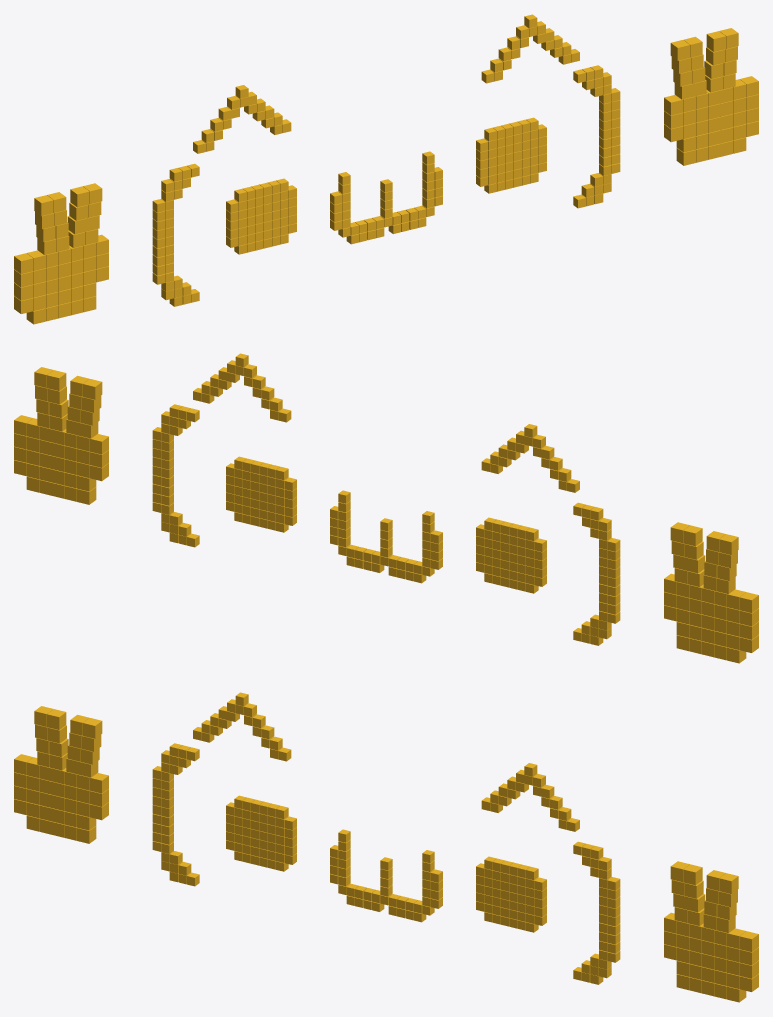
The model's file is YellowCatMode-new.glb.
3 views of the same model, one above another, from view 1: azimuth 30°, elevation 25°; view 2: azimuth 150°, elevation 25°; view 3: azimuth 330°, elevation 25° (orthographic).
Visible parts, largest first — view 1: Cube; view 2: Cube; view 3: Cube.
Boxes of the visible parts, x1,y1,x2,y2 form: Cube: [14, 14, 758, 324]; Cube: [14, 353, 758, 663]; Cube: [14, 692, 758, 1002].
Bounding box in the file's own units: 4.13 × 1.07 × 0.069.
